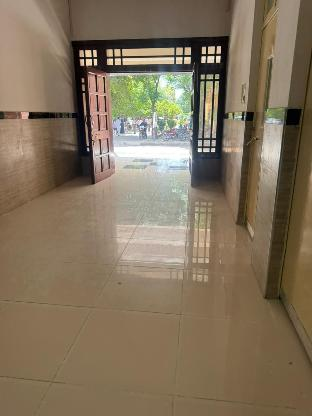door: (69, 34, 222, 185)
